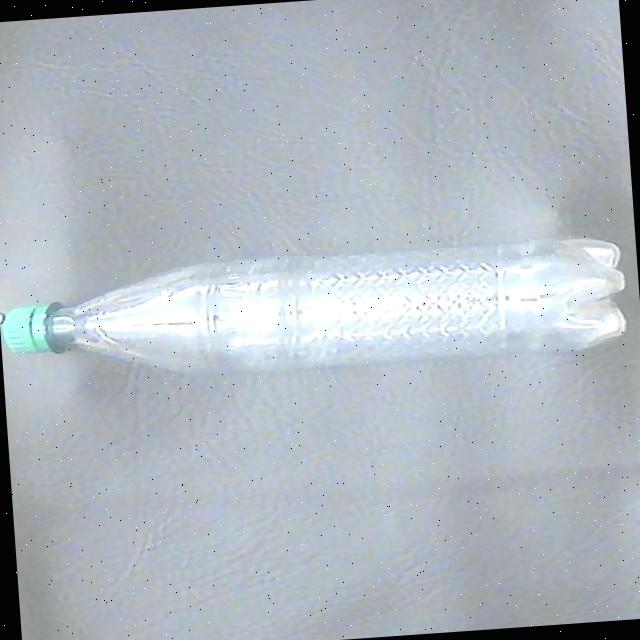bottle: (0, 228, 635, 397)
cap: (0, 299, 54, 355)
